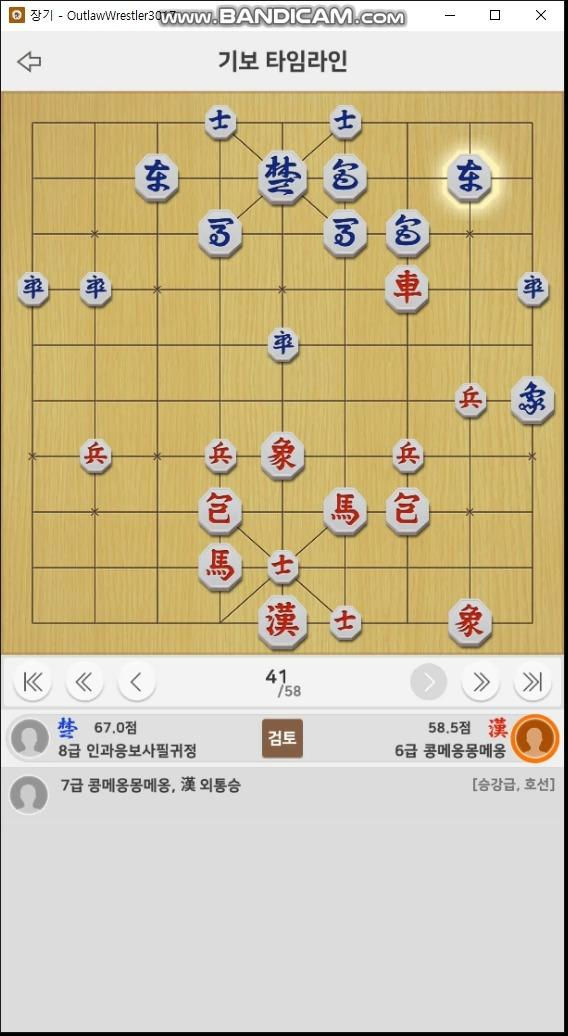cha_green: (446, 155, 491, 202), (134, 155, 180, 199)
cha_red: (386, 265, 429, 310)
jol_green: (515, 271, 550, 307), (265, 326, 301, 360), (17, 271, 52, 305), (78, 271, 113, 305)
jol_red: (391, 437, 426, 475), (203, 436, 236, 475), (80, 438, 112, 475), (454, 382, 486, 419)
ma_green: (196, 208, 244, 257), (323, 210, 368, 256)
ma_red: (197, 544, 242, 591), (324, 486, 367, 534)
po_green: (388, 208, 430, 254), (324, 156, 368, 197)
po_red: (198, 487, 244, 534), (387, 488, 427, 536)
sa_green: (328, 104, 363, 142), (204, 105, 237, 137)
sa_red: (331, 605, 361, 643), (269, 549, 299, 585)
sang_green: (510, 377, 554, 424)
sang_red: (261, 433, 306, 479), (449, 600, 491, 648)
wang_green: (258, 151, 308, 204)
wang_red: (257, 596, 308, 645)
